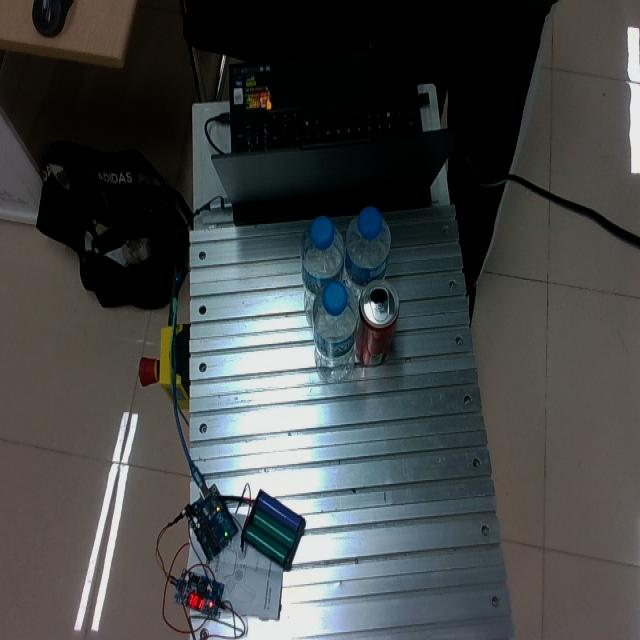coca: (355, 280, 399, 367)
lavie: (310, 280, 358, 383), (300, 214, 345, 322), (344, 207, 391, 293)
